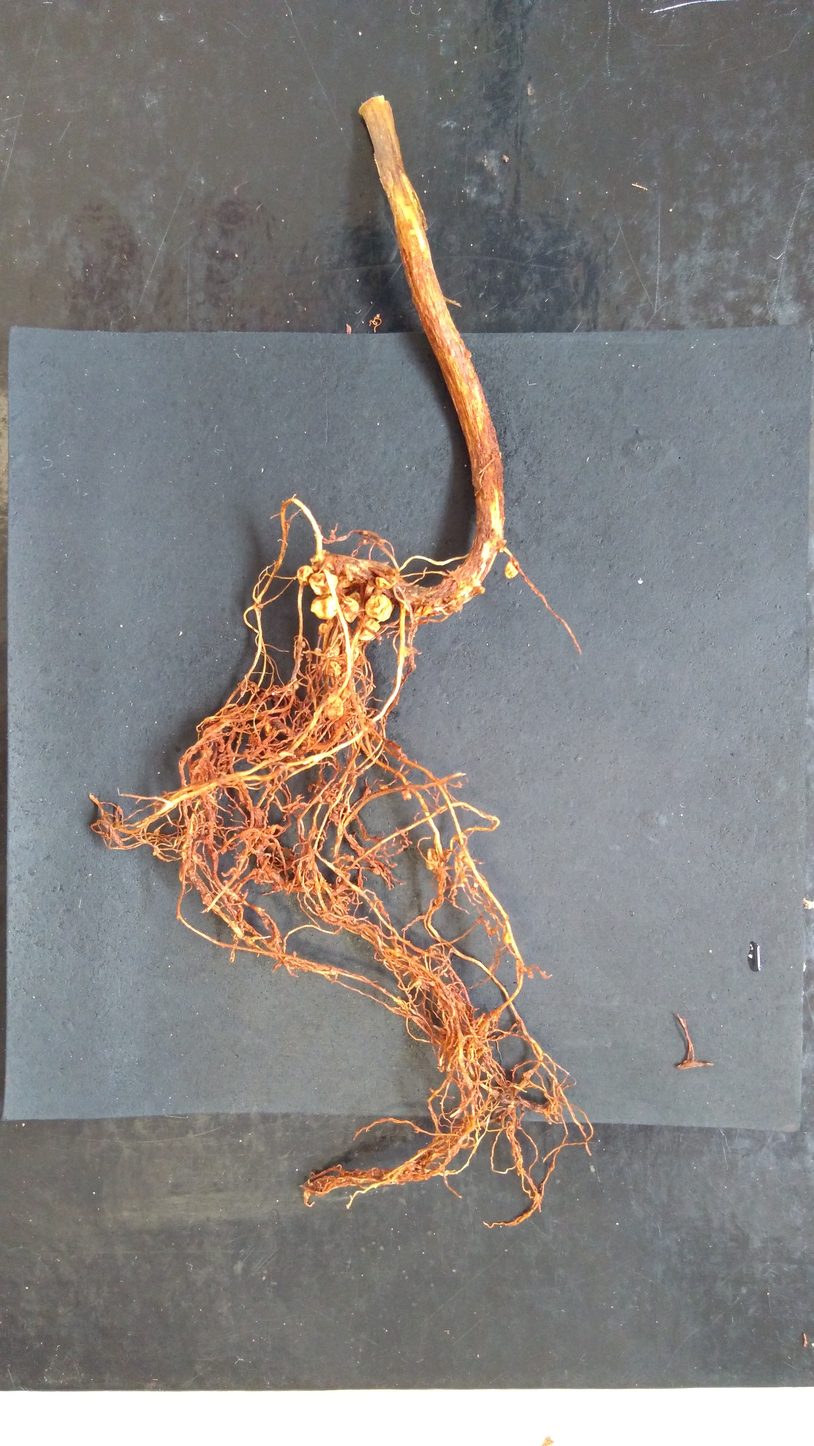nodule: (361, 592, 392, 622), (307, 571, 340, 598), (309, 596, 338, 624), (322, 694, 346, 723), (338, 593, 360, 624), (423, 846, 440, 872), (295, 563, 311, 588), (374, 573, 391, 592), (504, 559, 519, 580), (326, 661, 343, 678), (363, 617, 381, 632), (357, 628, 375, 641), (421, 605, 432, 616), (318, 622, 329, 632), (314, 647, 322, 656)
